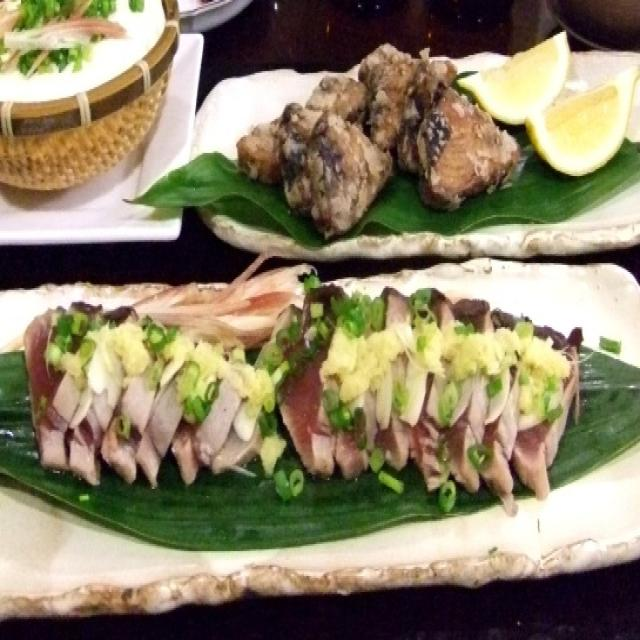熟制海鲜: (0, 235, 631, 551)
